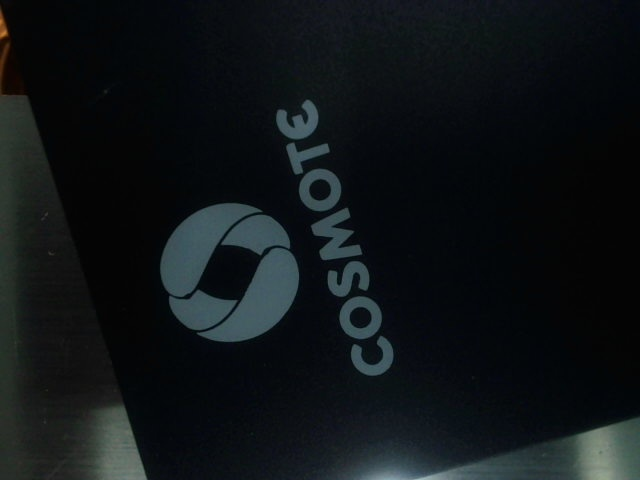AU_COSMOTE: (146, 92, 399, 392)
